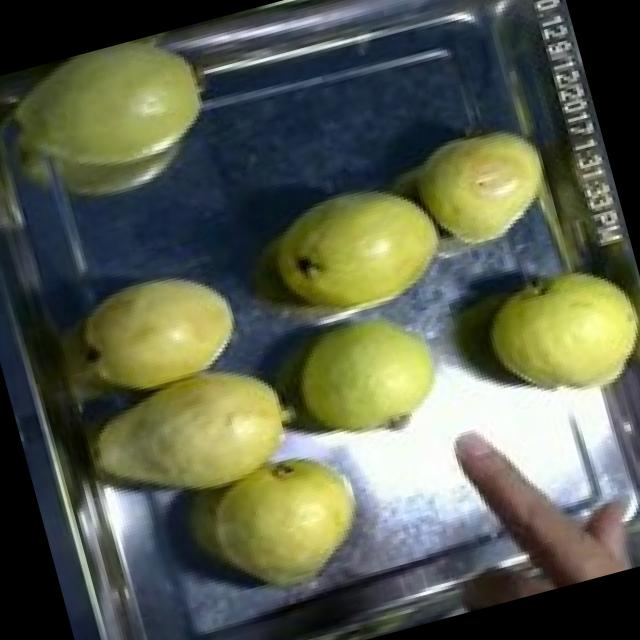Fruit: (70, 343, 319, 533), (0, 21, 235, 221), (250, 158, 465, 340), (186, 427, 390, 614), (264, 287, 468, 471), (462, 249, 640, 431), (61, 250, 255, 404), (396, 107, 566, 270)
